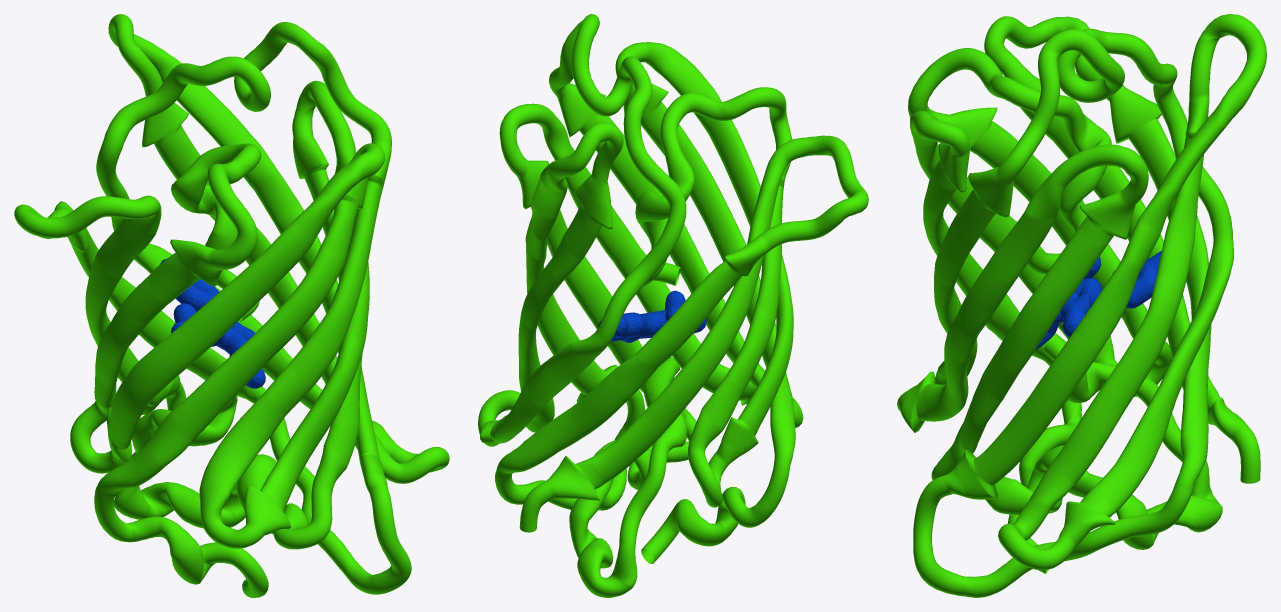
File: gfp__green_fluorescent_protein.glb
The picture shows the model from 3 angles, left to right: view 1: azimuth 30°, elevation 25°; view 2: azimuth 150°, elevation 25°; view 3: azimuth 270°, elevation 25°; orthographic projection. The views are drawn at different scales.
Parts seen in each view (by area): view 1: Object_3, Object_4; view 2: Object_3, Object_4; view 3: Object_3, Object_4.
Boxes of the visible parts, <box> form: Object_3: <box>14,14,449,597</box>; Object_4: <box>160,258,265,388</box>; Object_3: <box>478,14,868,597</box>; Object_4: <box>598,290,706,342</box>; Object_3: <box>897,14,1266,597</box>; Object_4: <box>1036,251,1161,349</box>.
Size of the model in its own units: 453 by 585 by 346.
